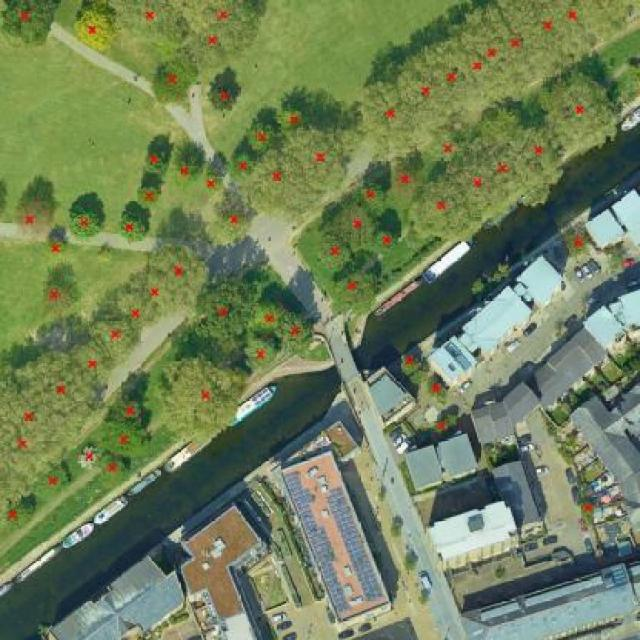tree: (152, 356, 252, 450), (0, 418, 83, 514), (542, 64, 624, 158), (186, 268, 266, 362), (232, 144, 323, 221), (1, 373, 87, 453), (15, 351, 103, 423), (279, 125, 359, 200), (405, 178, 477, 250), (508, 0, 581, 71), (552, 0, 637, 57), (354, 74, 418, 148), (445, 17, 490, 118), (391, 48, 446, 130), (466, 4, 508, 111), (429, 28, 476, 123), (497, 0, 540, 98), (144, 241, 216, 299), (106, 0, 191, 49), (178, 21, 252, 73), (0, 0, 65, 54), (129, 266, 193, 320), (183, 0, 269, 40), (66, 2, 125, 58), (456, 148, 498, 226), (90, 309, 145, 368), (145, 52, 197, 114), (94, 418, 158, 468), (324, 199, 381, 253), (478, 95, 530, 154), (478, 141, 527, 202), (383, 152, 434, 210), (66, 339, 120, 393), (325, 268, 383, 318), (30, 274, 84, 324), (8, 193, 59, 245), (24, 460, 79, 506), (425, 121, 470, 177), (113, 287, 169, 330), (278, 307, 319, 362), (64, 193, 108, 244), (311, 230, 357, 278), (201, 78, 247, 122), (522, 125, 563, 173), (351, 178, 392, 224), (241, 332, 282, 377), (240, 116, 282, 158), (168, 146, 207, 191), (248, 293, 286, 339), (217, 203, 258, 245), (114, 203, 154, 246), (1, 495, 41, 537), (94, 452, 134, 492), (558, 224, 596, 262), (106, 392, 148, 426), (272, 102, 317, 133), (195, 166, 232, 203), (226, 148, 260, 186), (138, 146, 174, 179), (204, 218, 236, 251), (132, 182, 166, 212), (396, 344, 427, 376), (424, 373, 451, 409), (37, 235, 75, 260), (374, 231, 406, 260), (75, 442, 103, 475), (575, 497, 600, 523), (430, 418, 456, 442), (409, 362, 428, 390), (386, 521, 406, 542), (400, 558, 420, 578), (412, 594, 434, 612), (445, 410, 461, 428), (376, 486, 390, 506)
